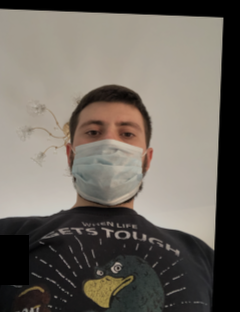with_mask: (71, 114, 146, 205)
